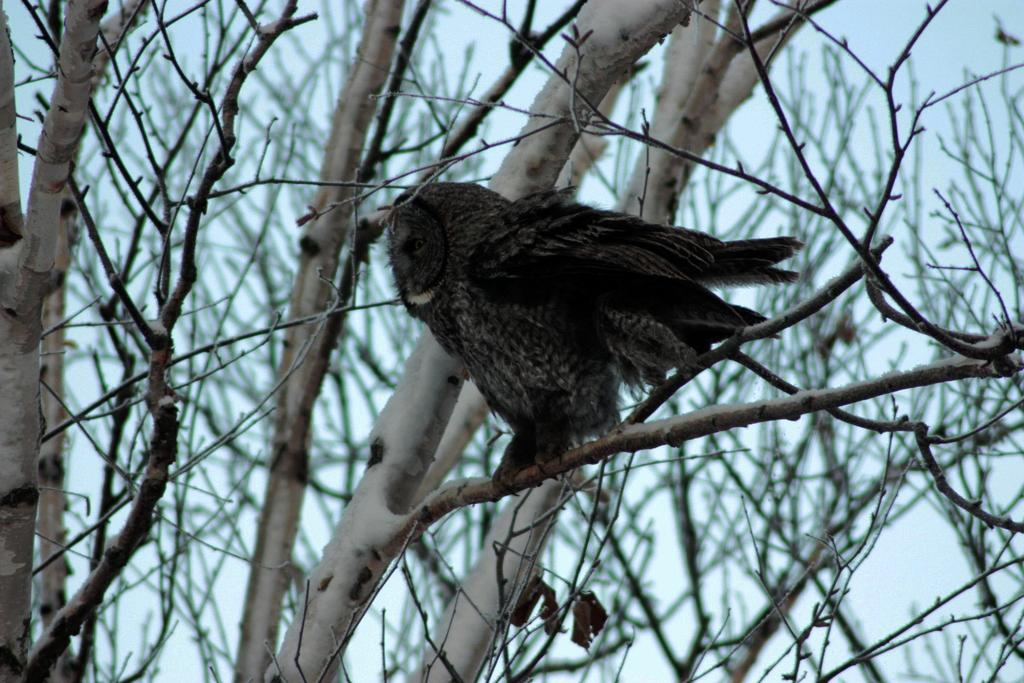Owl: (362, 176, 798, 498)
